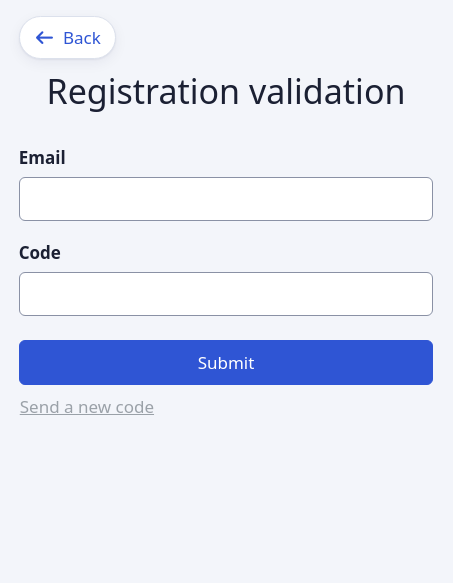
Test: requests a new code for the entered e-mail
Type " alice@example.com " into the field labelled "Email".
click(226, 199); type(" alice@example.com ")  # box [19,177,433,221]
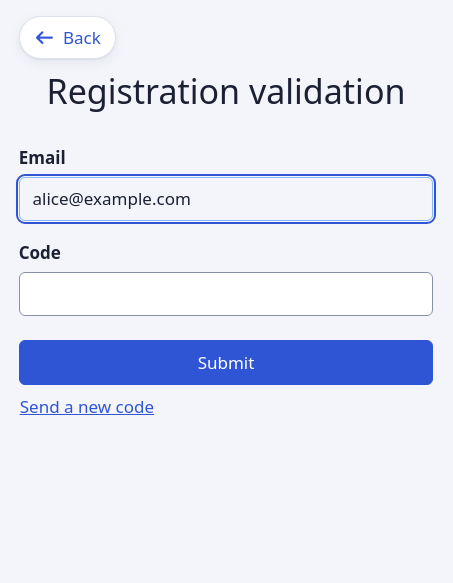
Click the button "Send a new code".
click(87, 407)  # box [19,385,155,429]
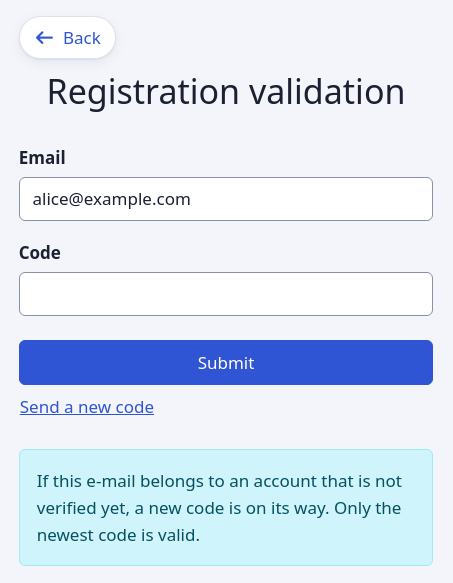
Check: the message shows "a new code is on its way", box [37,469,402,546]
